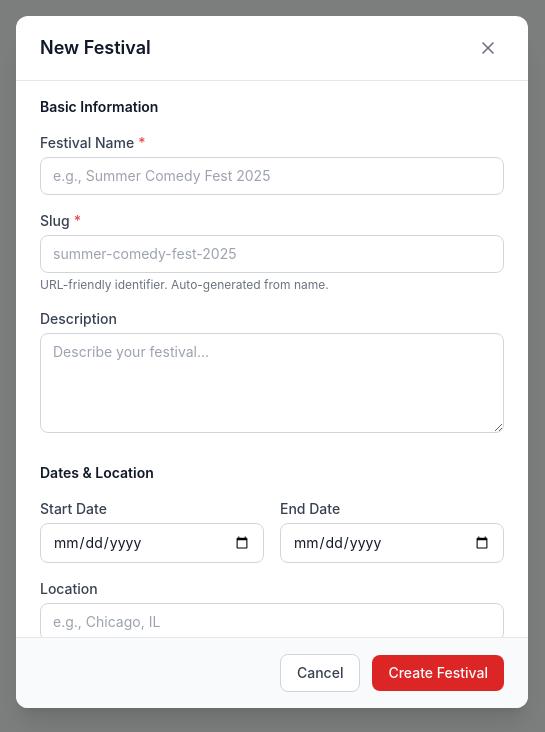
Test: FestivalForm › form validation › requires name field
Click the button "Create Festival": point(438, 673) [372,655,504,691]
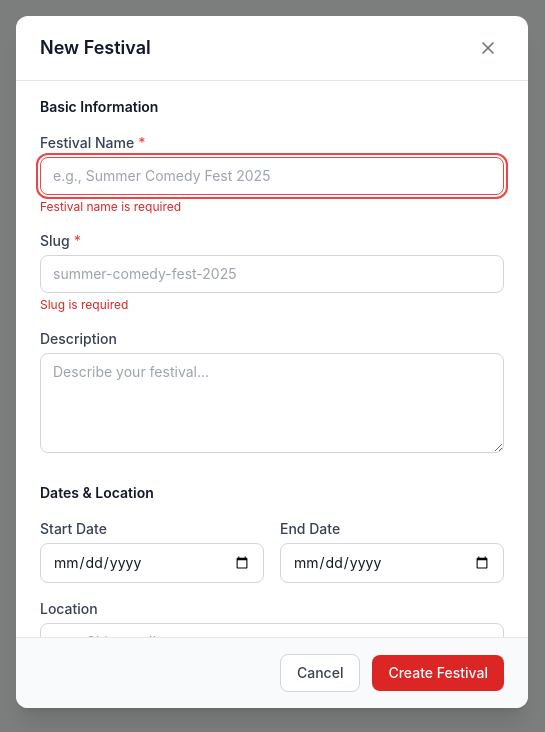
Now the text "Festival name is required" is shown, box [40,199,181,214]
